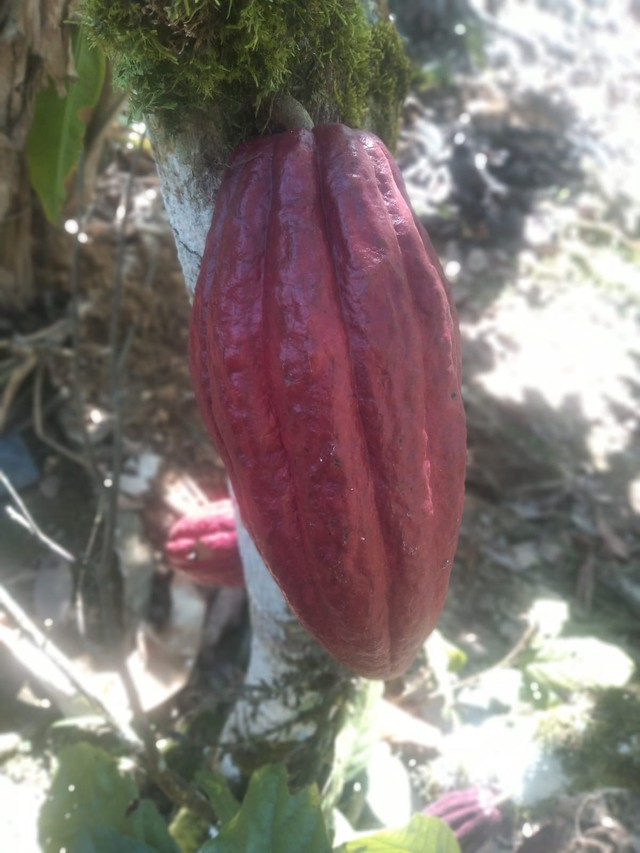Health: (167, 96, 481, 697)
